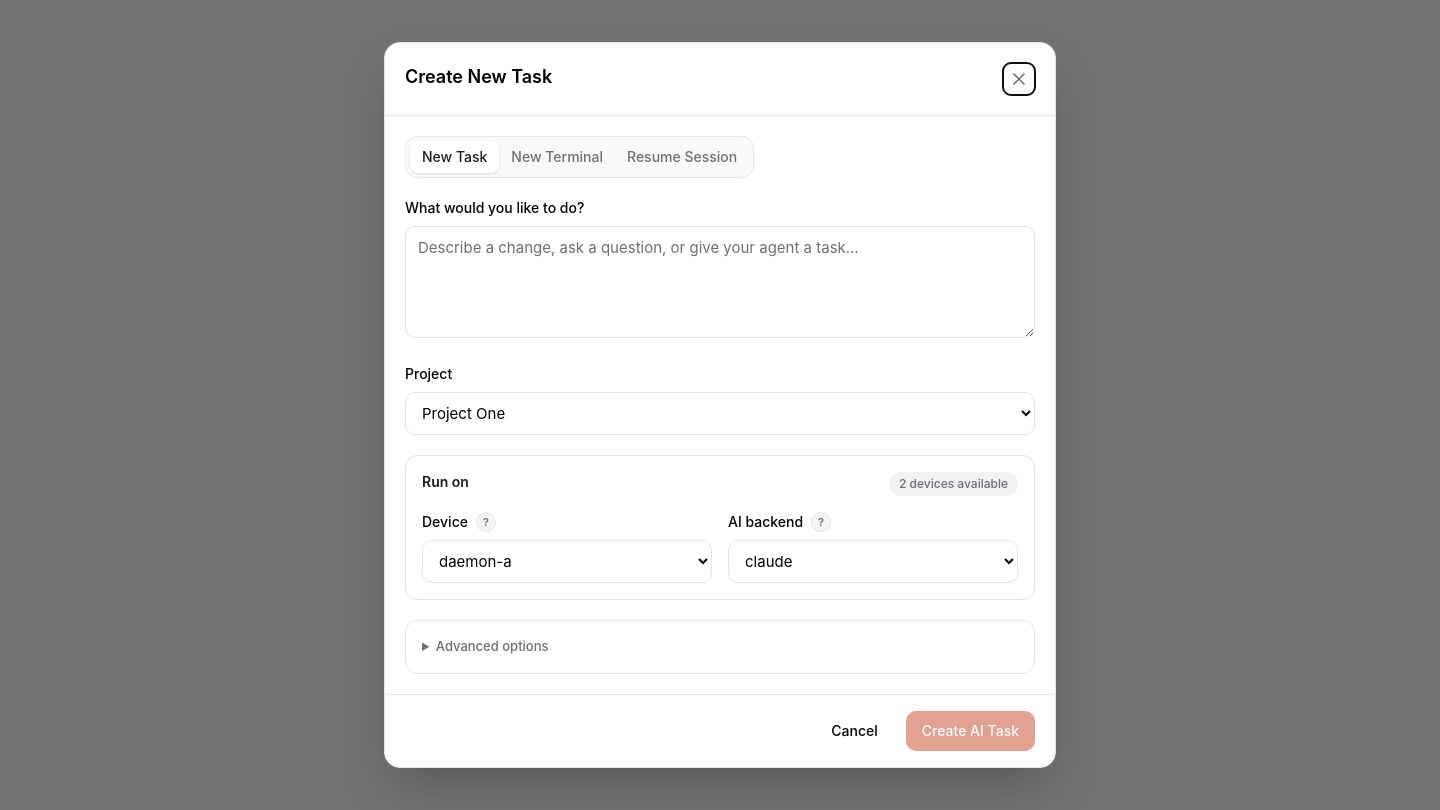
Test case: CreateTaskDialog › uses first option as default and reveals guidance only after clicking help
Expected: the dropdown labelled "Project" shows "Project One", [405, 392, 1035, 435]
Expected: the dropdown labelled "Device" shows "daemon-a", [422, 540, 712, 583]
Click the button named "Show help for daemon".
click(486, 522)  # box [476, 512, 496, 532]
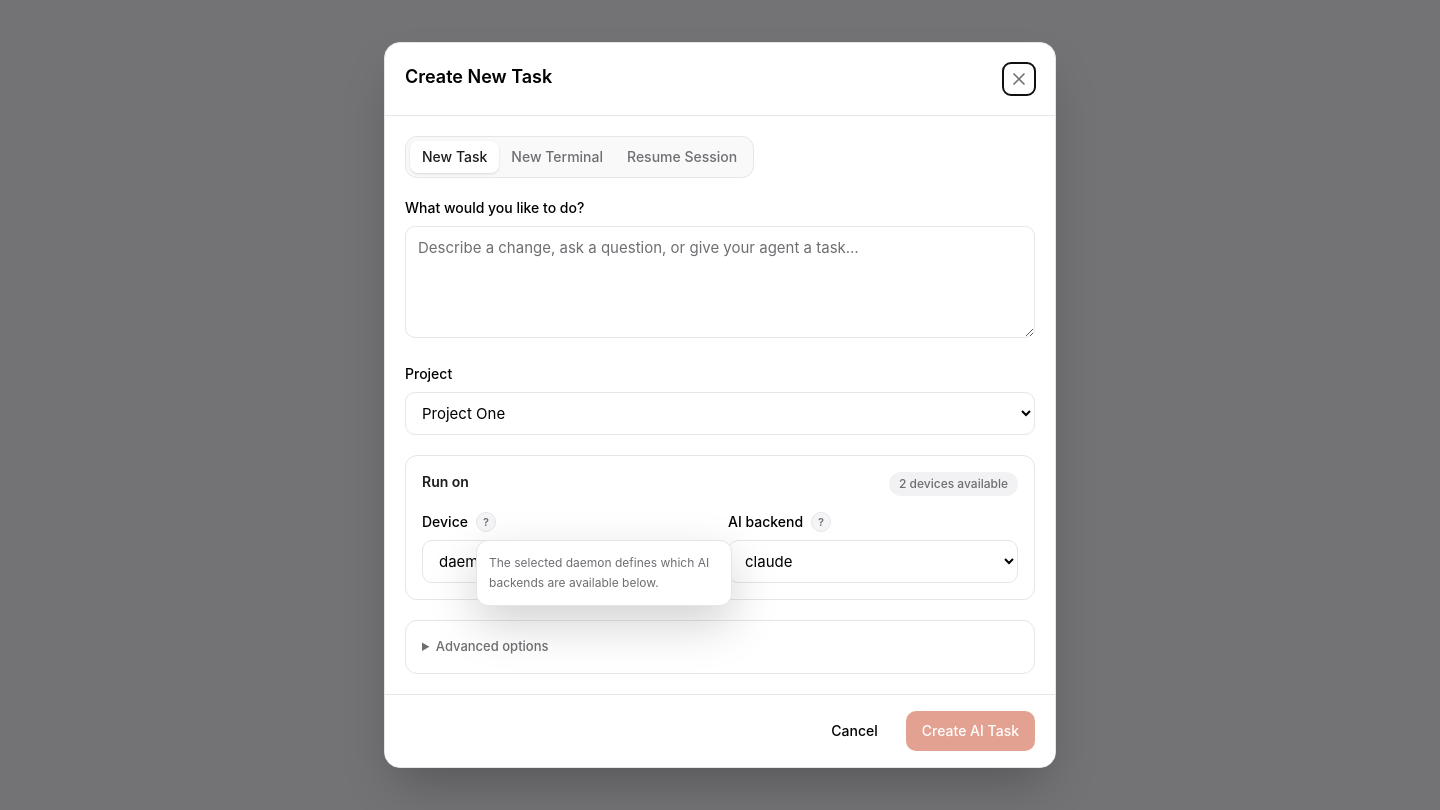
Result: the text "The selected daemon defines which AI backends are available below." is shown at [476, 540, 732, 606]
